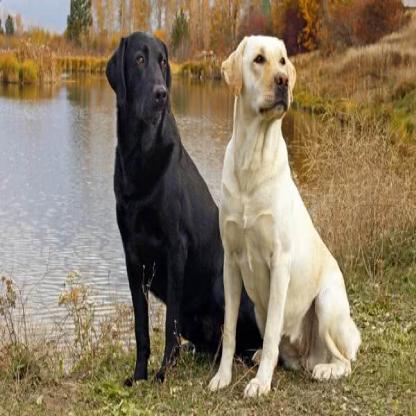dog: (107, 32, 262, 390), (207, 38, 359, 397)
